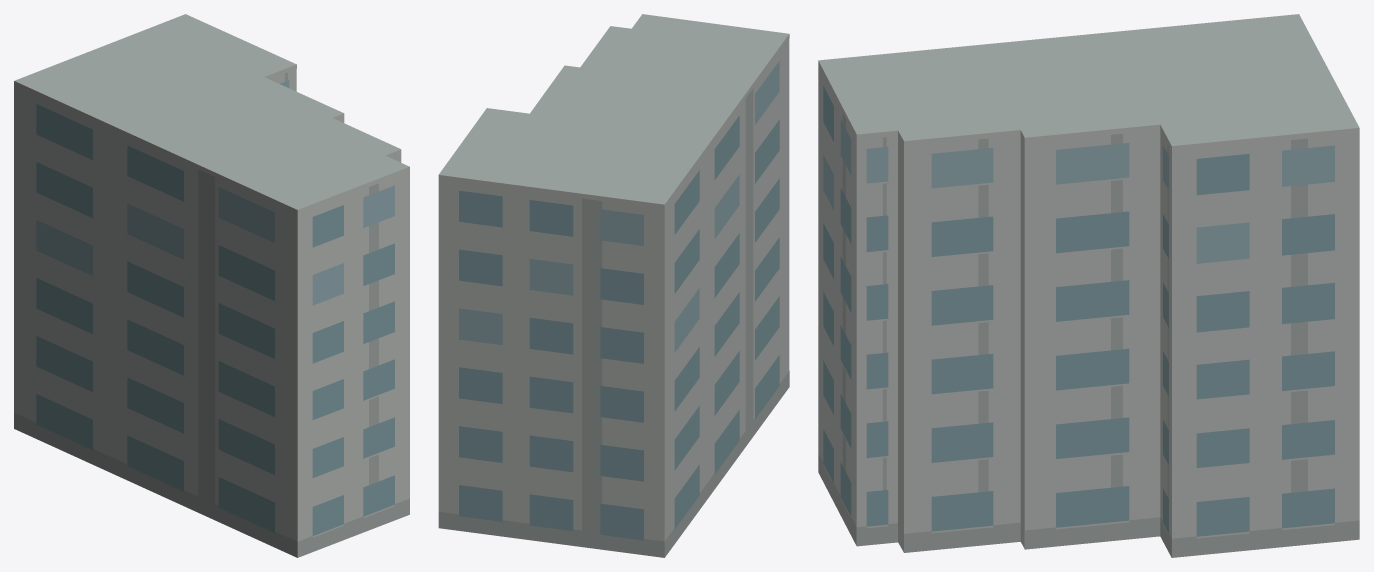
The model's file is survey-upis-32572428.glb.
The picture shows the model from 3 angles, left to right: view 1: azimuth 30°, elevation 25°; view 2: azimuth 150°, elevation 25°; view 3: azimuth 270°, elevation 25°; orthographic projection. The views are drawn at different scales.
Parts seen in each view (by area): view 1: survey-upis-32572428.tmp; view 2: survey-upis-32572428.tmp; view 3: survey-upis-32572428.tmp.
Part boxes in pixels (x1,y1,x2,y2): survey-upis-32572428.tmp: [14, 14, 409, 557]; survey-upis-32572428.tmp: [438, 14, 789, 557]; survey-upis-32572428.tmp: [818, 14, 1359, 557].
Bounding box in the file's own units: 12.61 × 18.3 × 21.82.
